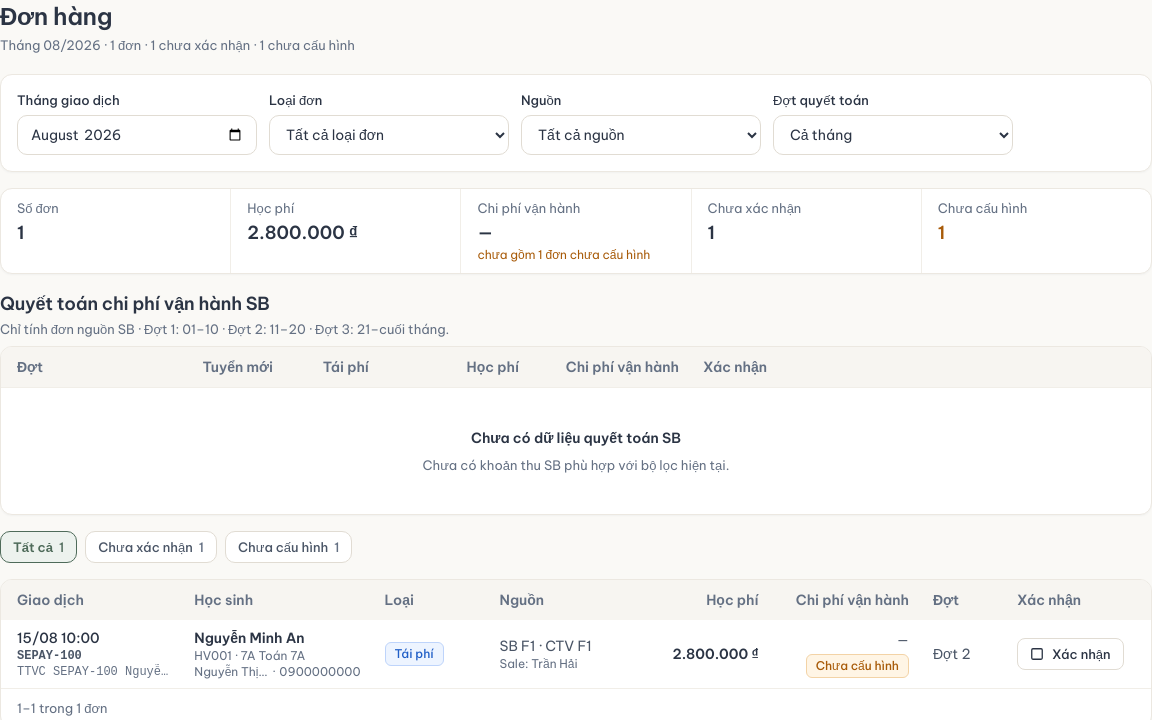
Finance Orders list (step 14c) › reports a refused or failed review in one alert near the table
This screenshot has width=1152, height=720.
Click the button with aria-label "Xác nhận đơn SEPAY-100": x=1070, y=654 [1017,638,1124,670]
(page scrolled)
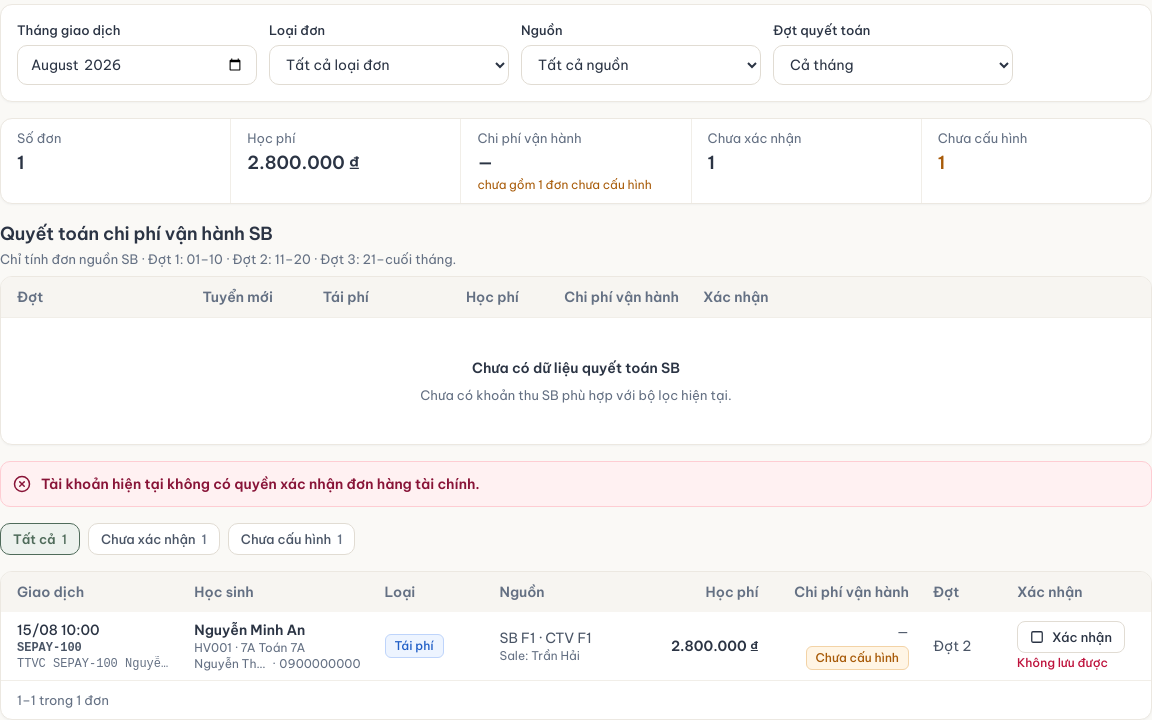
Result: the message reads "Tài khoản hiện tại không có quyền xác nhận đơn hàng tài chính." at [41,475,480,493]
Result: the number of messages is 1 at [0,461,1151,507]
Click the button with aria-label "Xác nhận đơn SEPAY-100": x=1071, y=637 [1017,621,1125,653]
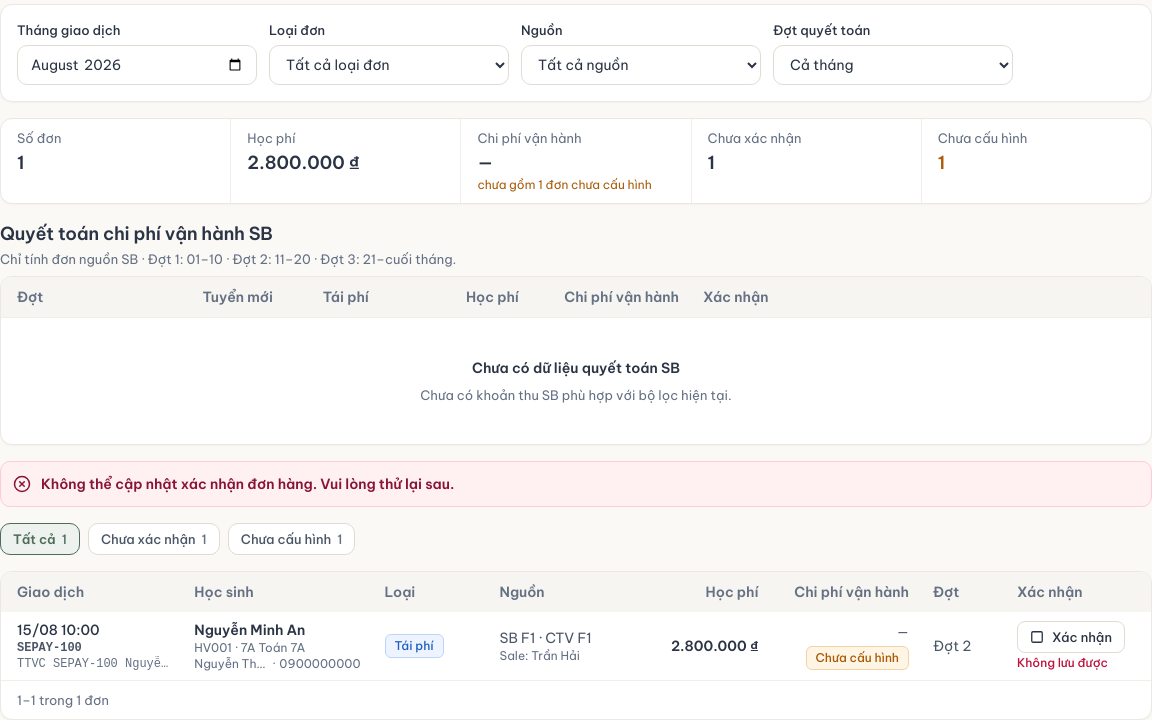
Result: the message reads "Không thể cập nhật xác nhận đơn hàng. Vui lòng thử lại sau." at [41,475,454,493]
